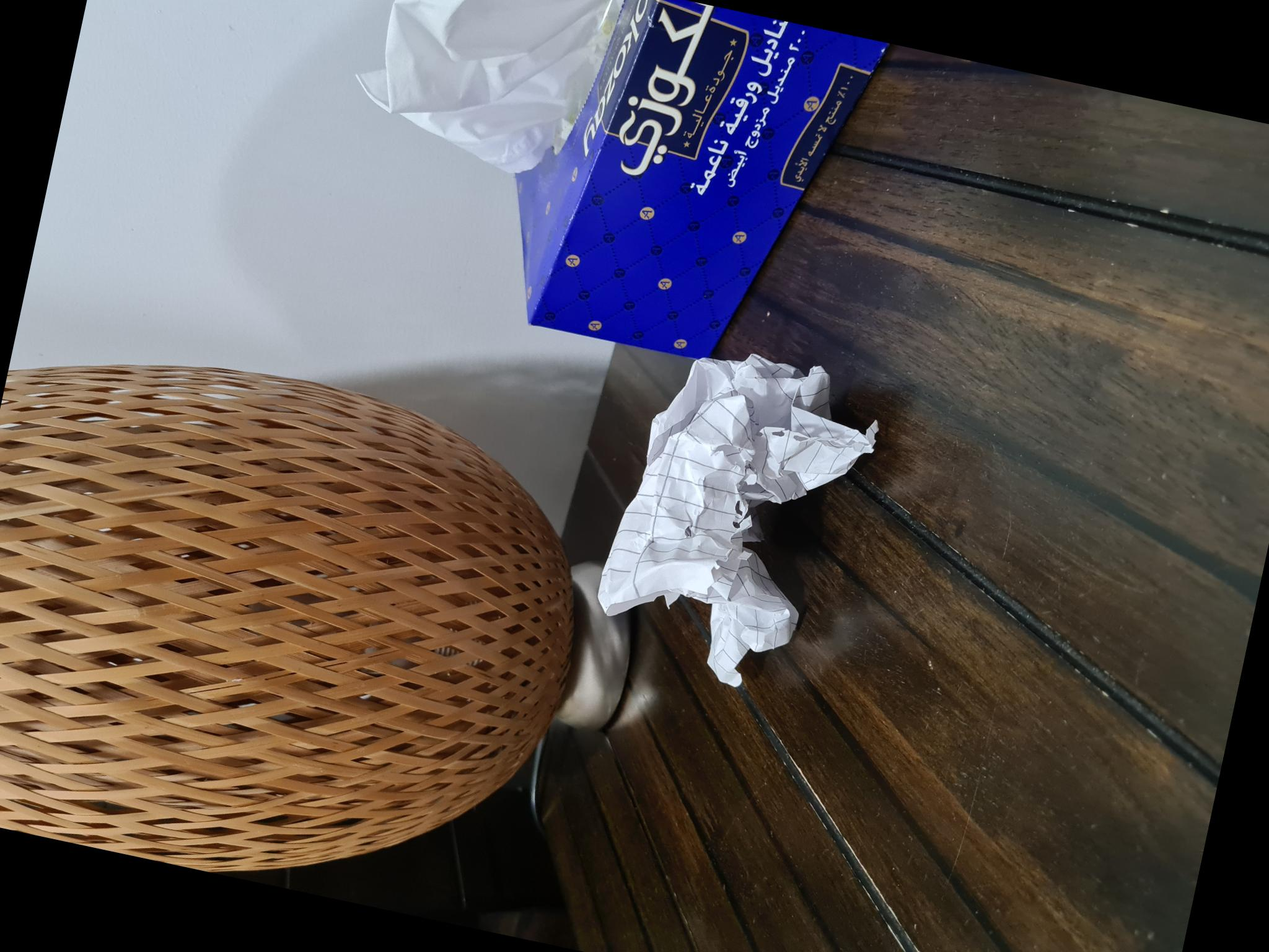Kertas: (244, 564, 575, 849)
